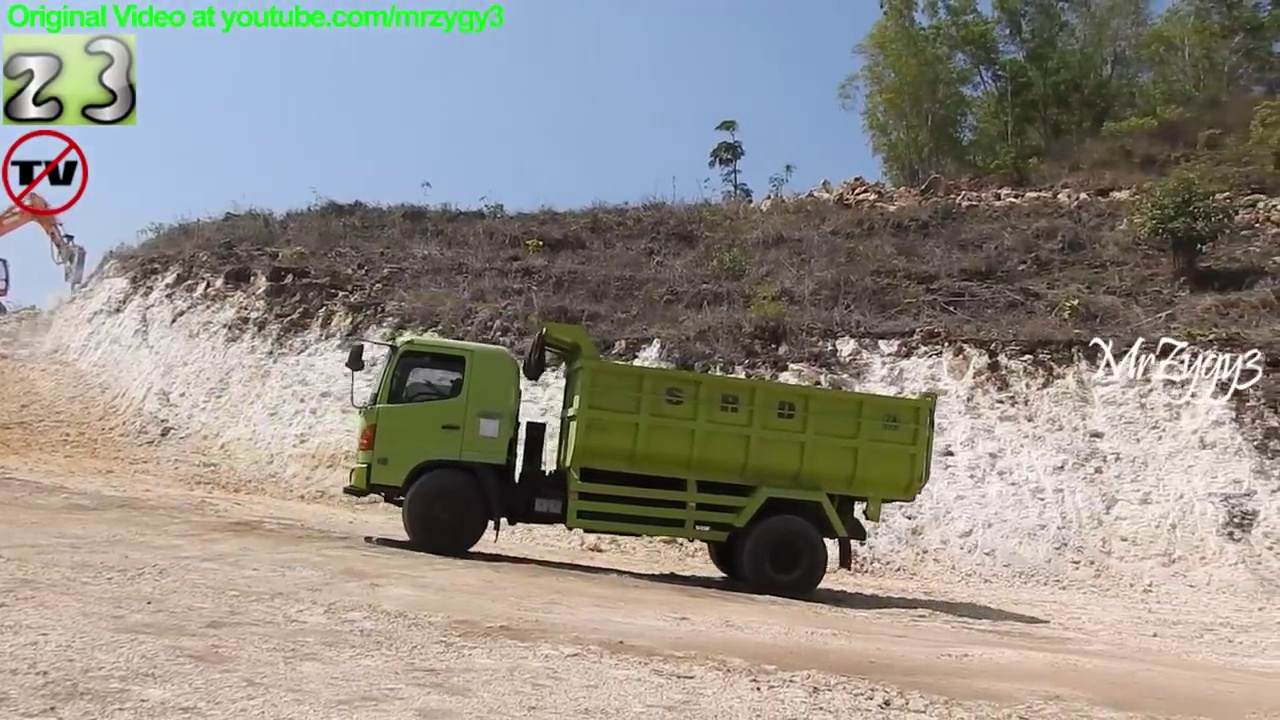excavator: (1, 181, 92, 337)
truck: (337, 316, 944, 605)
